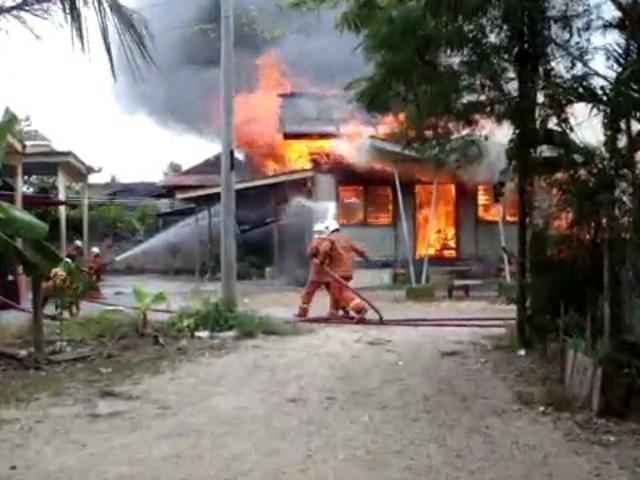fire: (230, 51, 572, 260)
